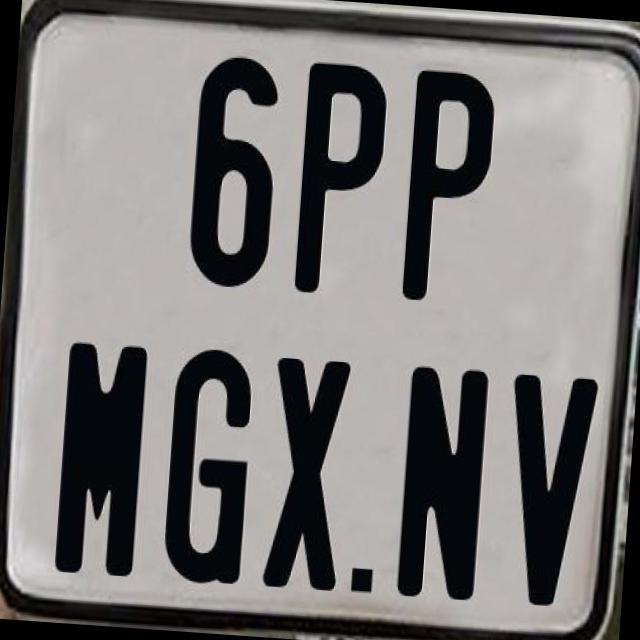6: (182, 50, 282, 287)
G: (160, 342, 258, 582)
M: (52, 338, 150, 574)
N: (392, 362, 491, 598)
P: (397, 65, 497, 310), (290, 58, 385, 302)
V: (496, 372, 598, 612)
X: (257, 352, 355, 592)
